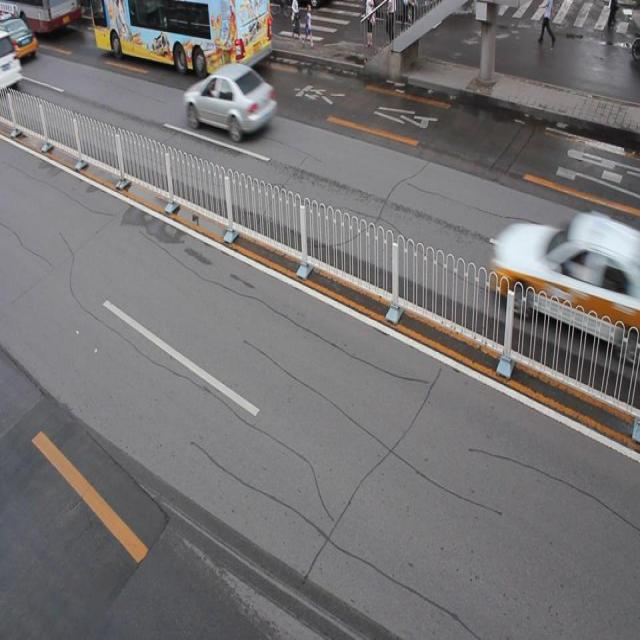car: (488, 211, 640, 359), (183, 61, 277, 143), (1, 15, 36, 60)
truck: (1, 30, 22, 90)
van: (90, 1, 270, 72)
